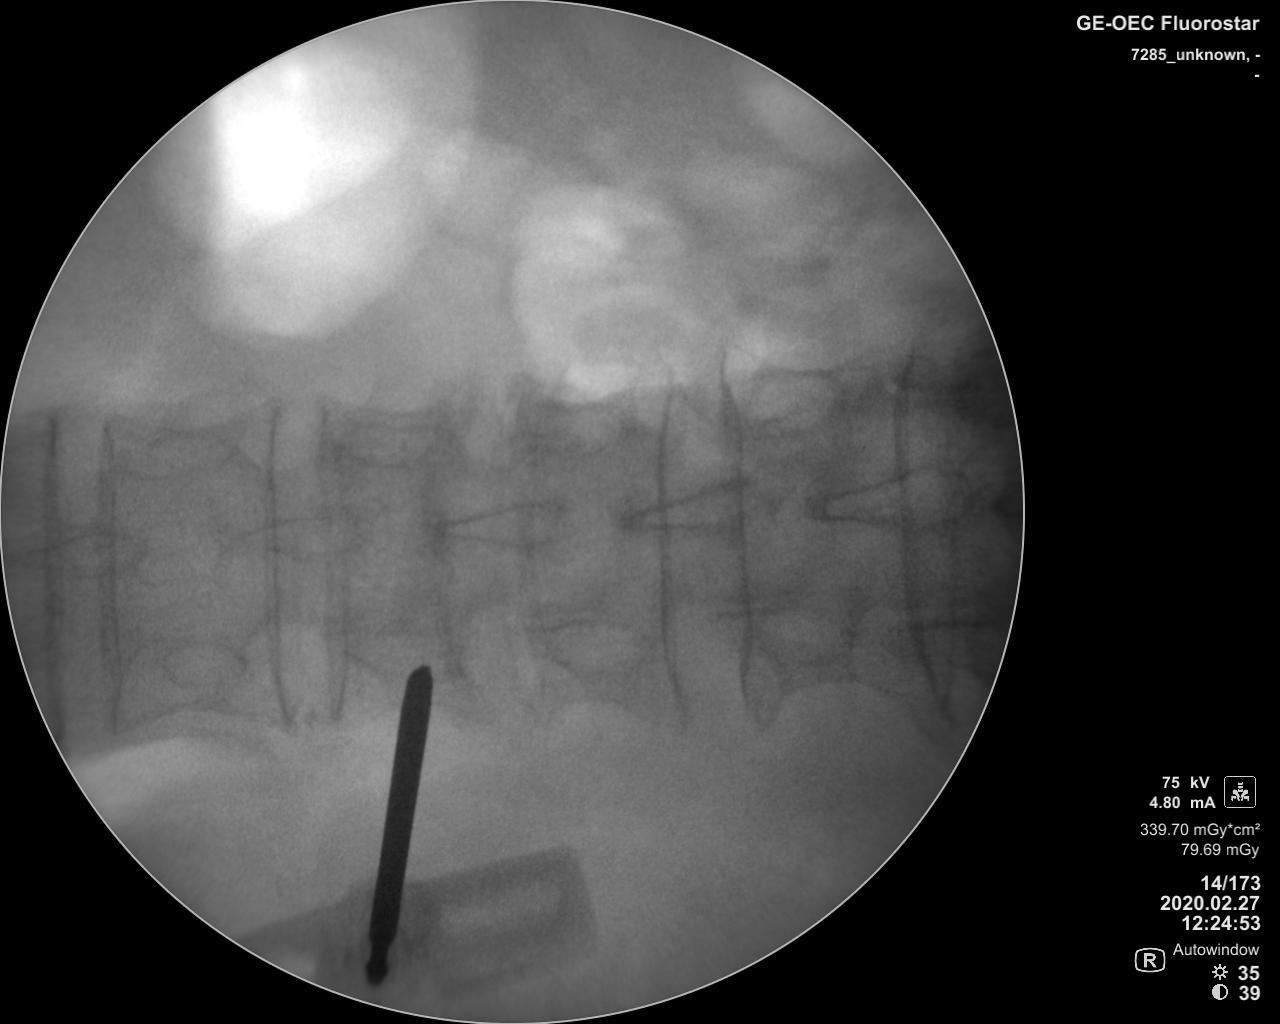eyes: (532, 616, 650, 677), (752, 599, 856, 666), (342, 630, 464, 686), (743, 370, 845, 436), (330, 406, 437, 467), (127, 427, 236, 480), (150, 632, 248, 689), (534, 399, 623, 458)
line: (889, 347, 947, 735), (717, 372, 757, 726), (313, 396, 354, 730), (654, 375, 689, 729), (91, 408, 124, 740), (264, 398, 297, 737), (40, 401, 70, 757)
nose: (793, 460, 976, 533), (612, 474, 762, 537), (411, 498, 569, 550), (228, 507, 360, 563), (18, 523, 146, 581)
